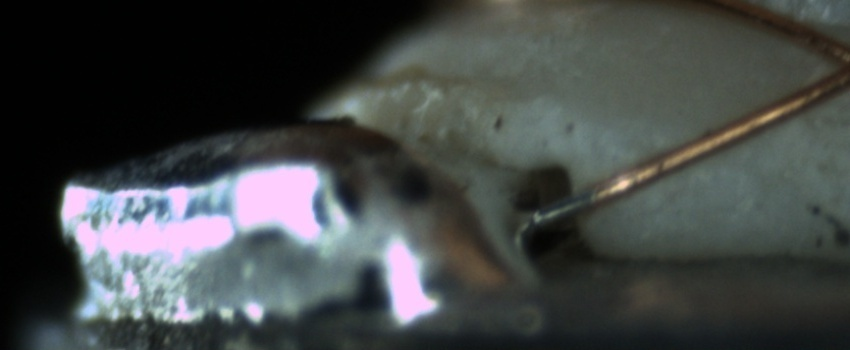CL: (806, 24, 850, 100)
TS: (526, 192, 596, 227)
